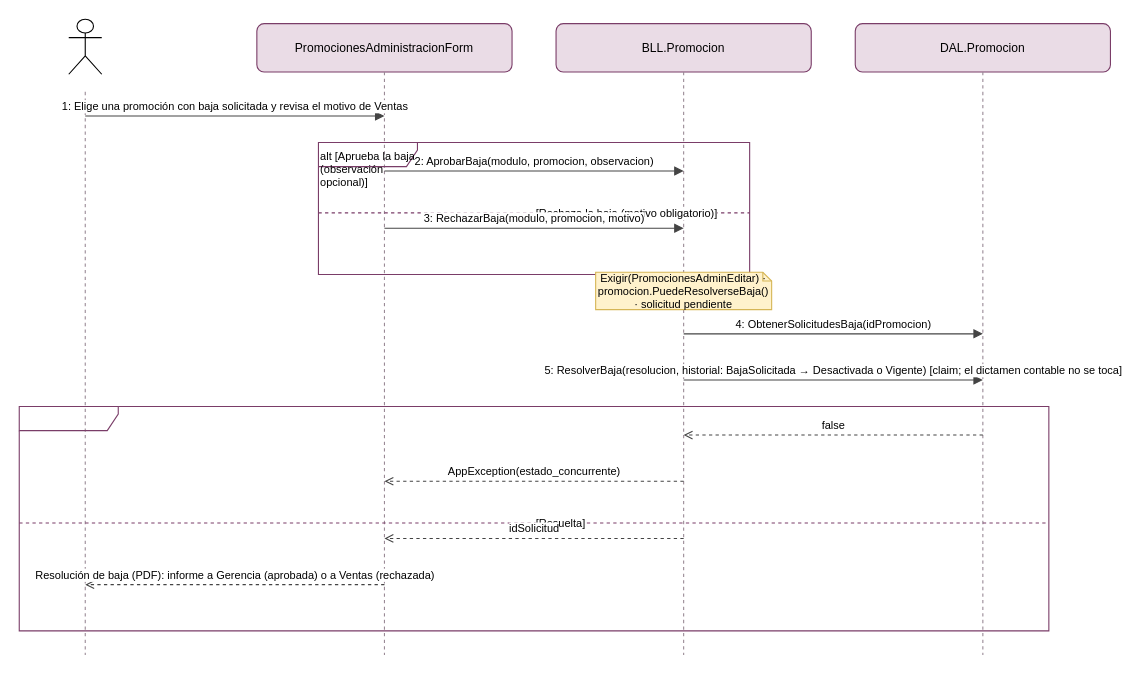
Some shapes in this 1141 by 675 pixel diagram are drawn without their labels. The box of each missing label's shape, as (x1, y1, x2, y2) in pixels:
Administración: (68, 18, 102, 74)
alt [Otra sesión ya la resolvió]: (18, 405, 1049, 631)
